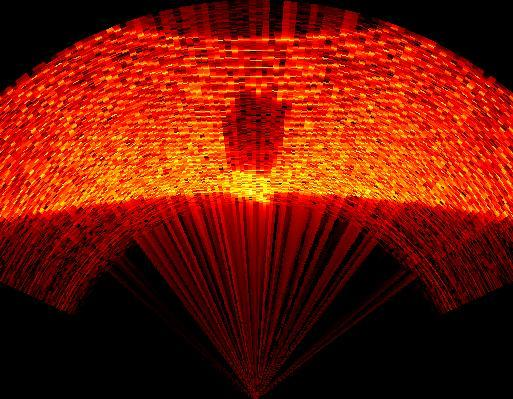box_crate: (220, 90, 286, 173)
